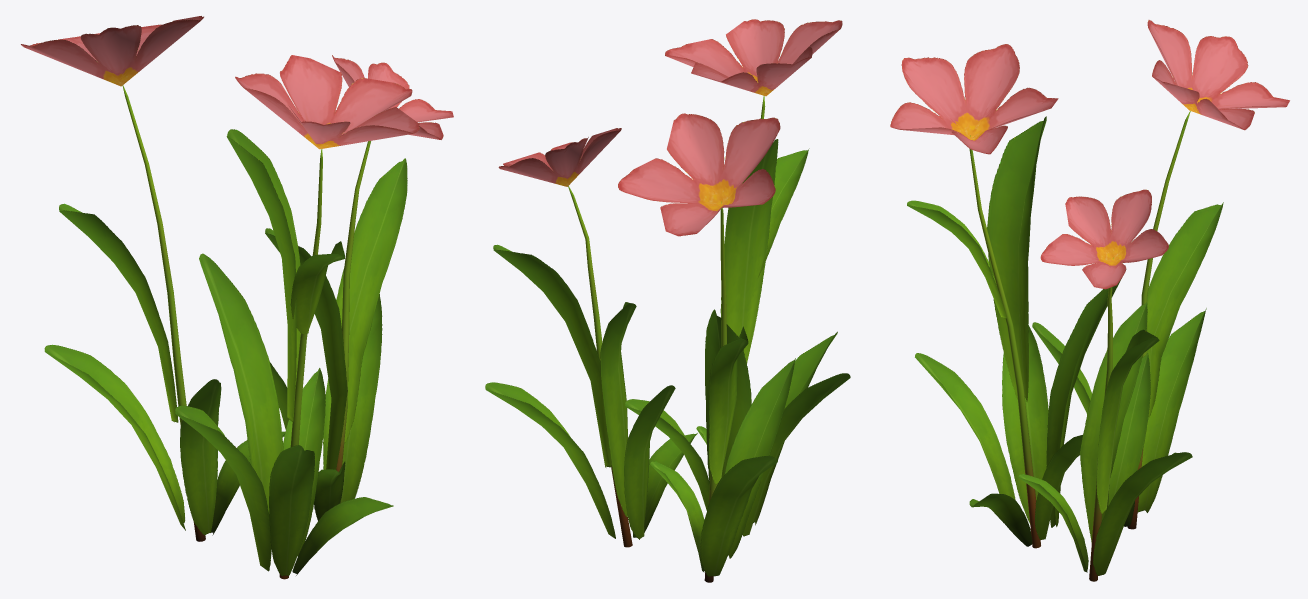
The model's file is Flower_3_Group.gltf.
3 renders of one model, left to right at view 1: azimuth 30°, elevation 25°; view 2: azimuth 150°, elevation 25°; view 3: azimuth 270°, elevation 25°, orthographic. The views are drawn at different scales.
Parts seen in each view (by area): view 1: Flower_3_Group; view 2: Flower_3_Group; view 3: Flower_3_Group.
Part boxes in pixels (x1,y1,x2,y2): Flower_3_Group: (21, 16, 453, 579); Flower_3_Group: (485, 19, 850, 582); Flower_3_Group: (890, 20, 1289, 581).
Bounding box in the file's own units: 1.49 × 2.05 × 1.59.
Materials: 2 (2 with a texture image).
